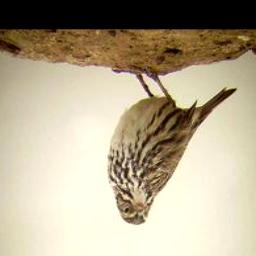Sparrow: (106, 65, 239, 227)
